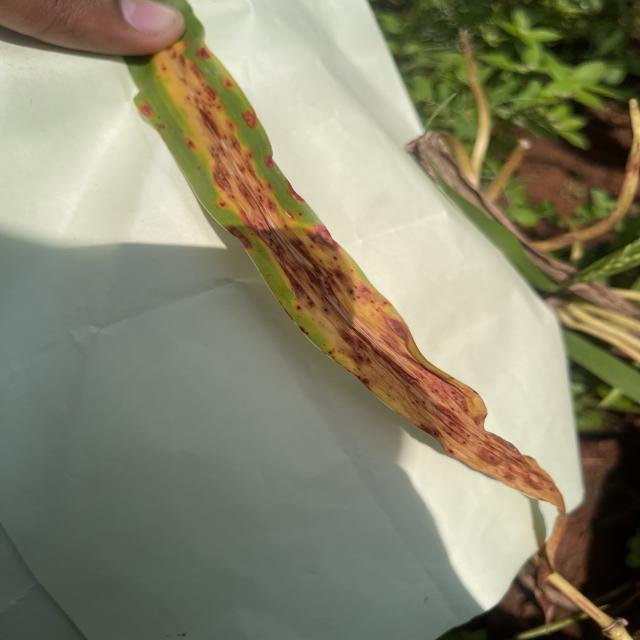millet_rust: (125, 0, 566, 550)
